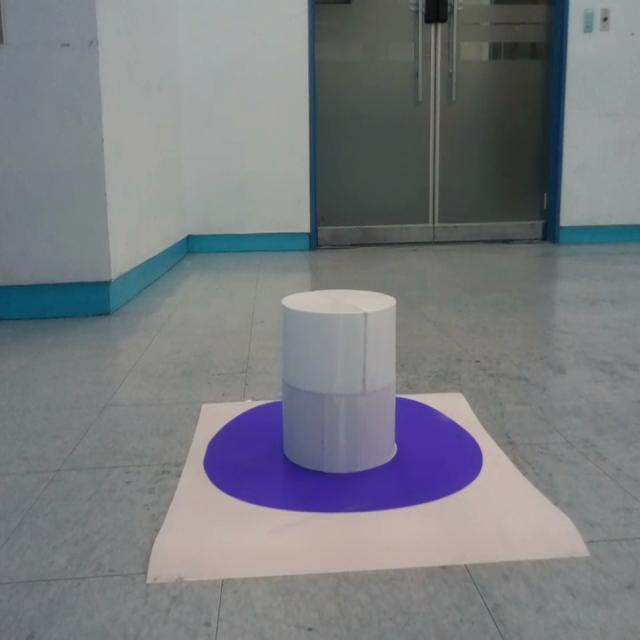cylinder: (280, 289, 397, 474)
